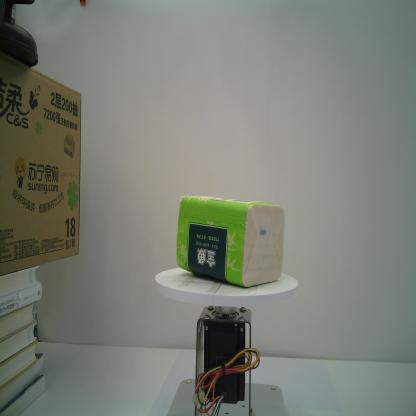Tissue: (175, 193, 287, 289)
